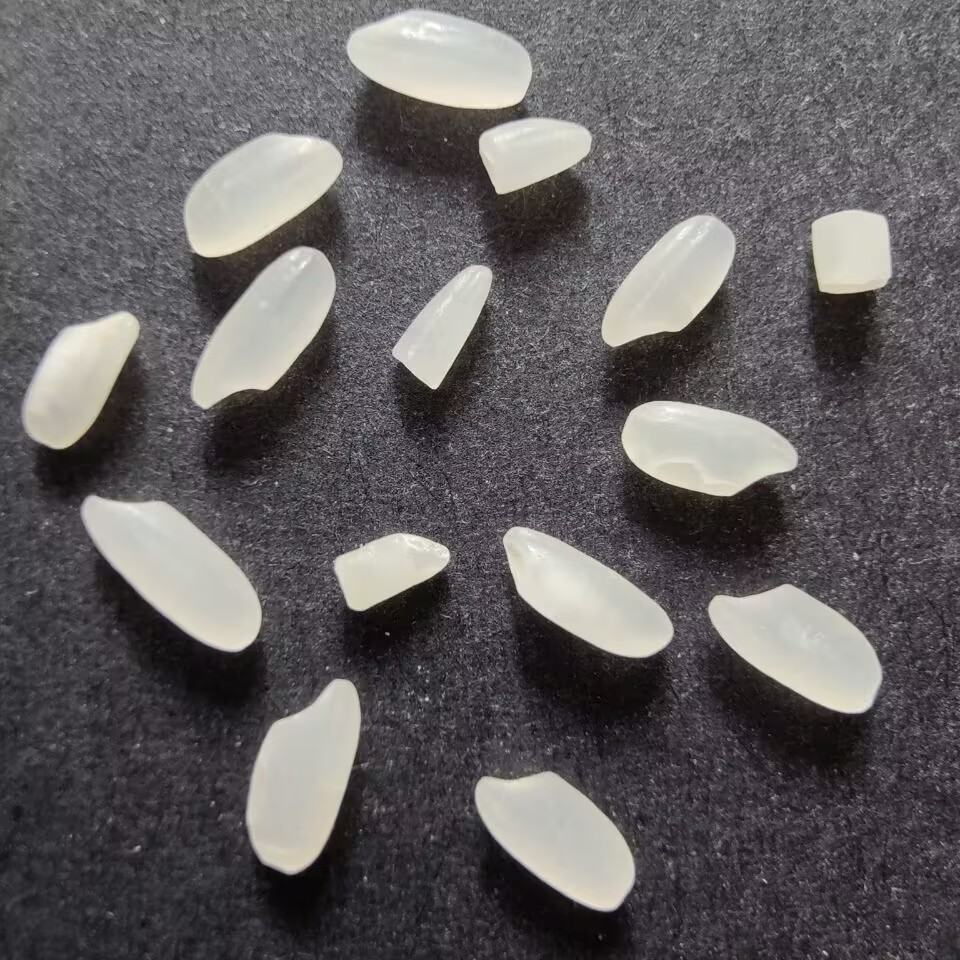broken: (391, 261, 494, 393), (330, 530, 455, 620), (476, 116, 598, 204), (805, 209, 899, 296)
rice: (78, 492, 265, 656), (187, 244, 339, 410), (471, 768, 642, 913), (497, 524, 676, 662), (707, 580, 884, 718), (248, 675, 360, 881), (178, 127, 344, 262), (343, 7, 534, 111), (598, 212, 741, 349), (16, 305, 145, 454), (619, 399, 802, 501)
